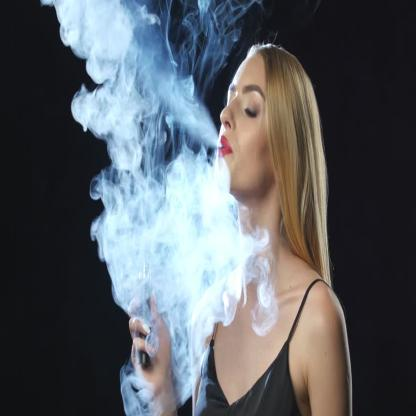person: (183, 43, 348, 416)
smoke: (93, 158, 245, 329), (58, 0, 209, 163), (116, 365, 158, 415), (172, 326, 196, 397)
